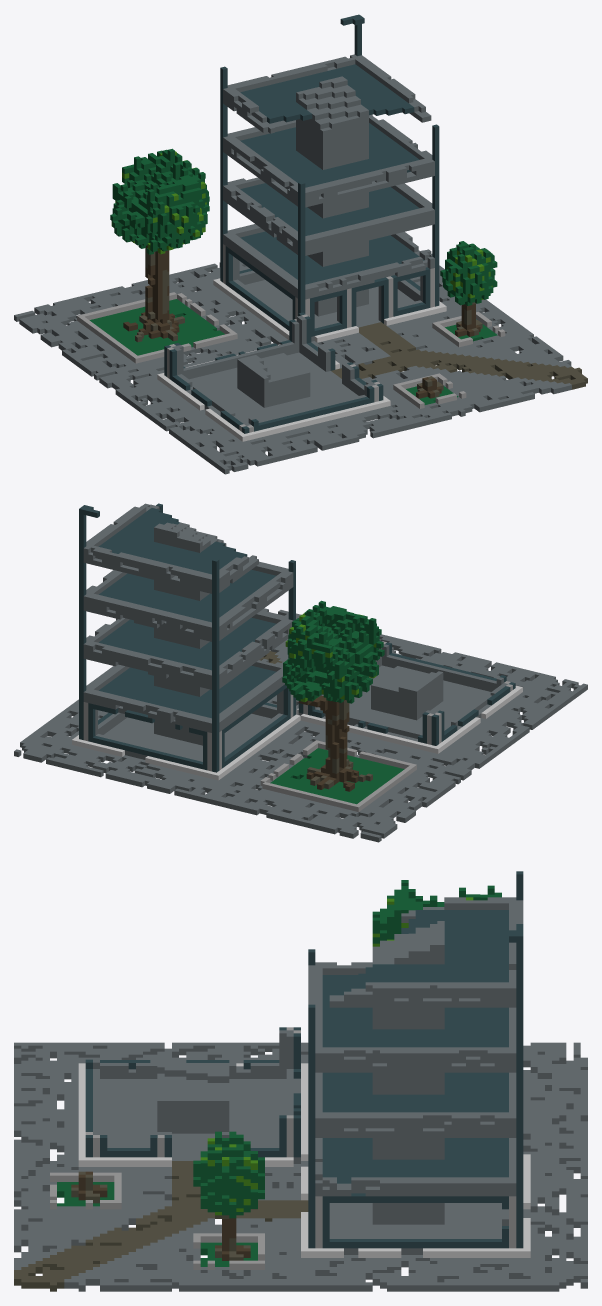
File: building_big_3_destroyed.obj
3 views of the same model, one above another, from view 1: azimuth 30°, elevation 25°; view 2: azimuth 150°, elevation 25°; view 3: azimuth 270°, elevation 25° (orthographic). The views are drawn at different scales.
Size of the model in its own units: 8 by 5 by 8.
1 material, 1 textured.
